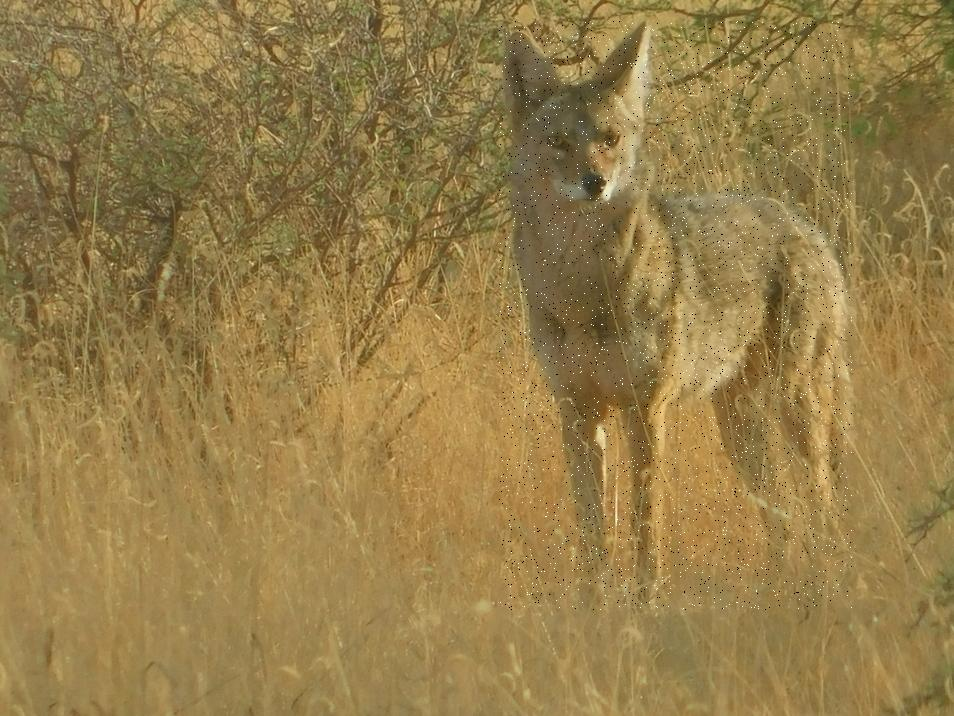Coyote: (500, 21, 853, 610)
